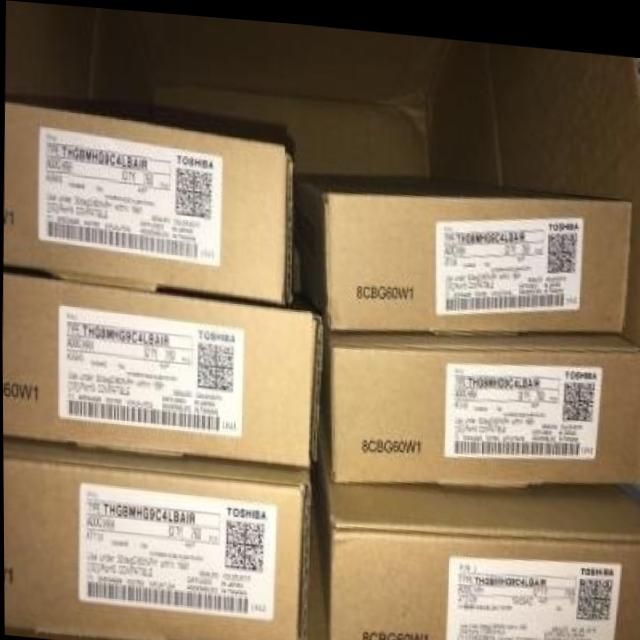box: (311, 430, 640, 640), (3, 436, 311, 640), (2, 268, 324, 463), (2, 99, 293, 299), (319, 311, 640, 479), (293, 168, 631, 327)
